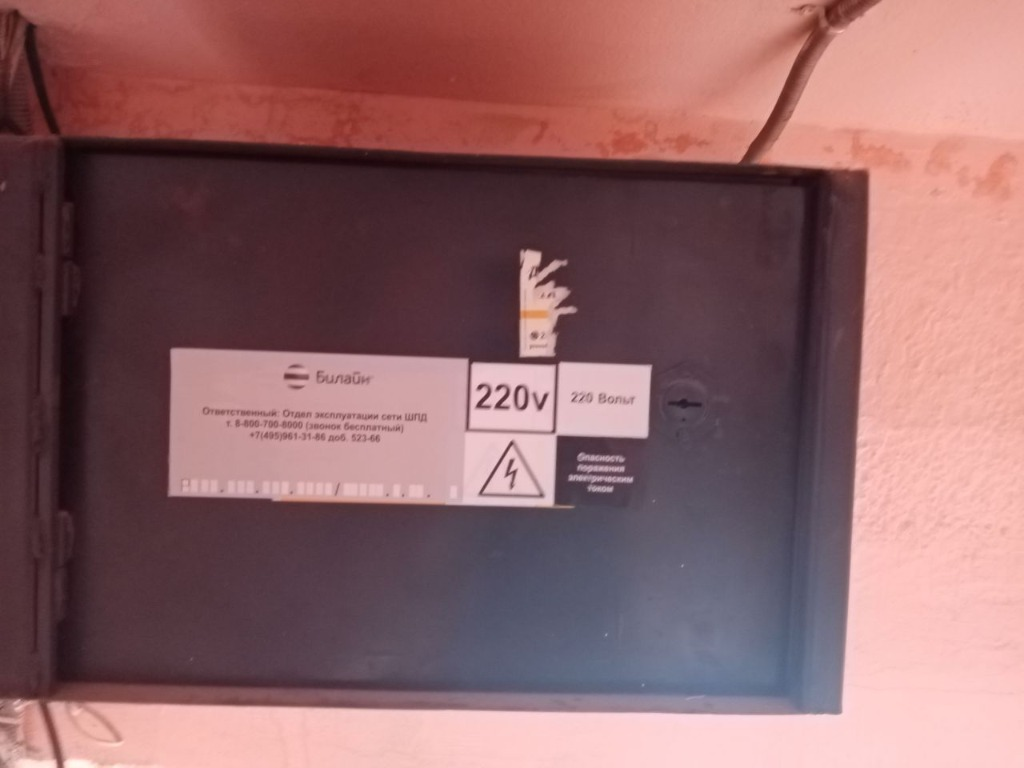e2-6u: (1, 124, 878, 724)
